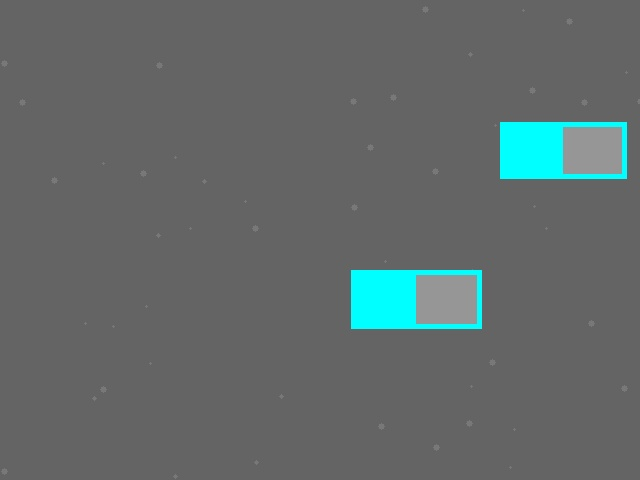truck: (351, 270, 481, 328), (500, 122, 626, 178)
